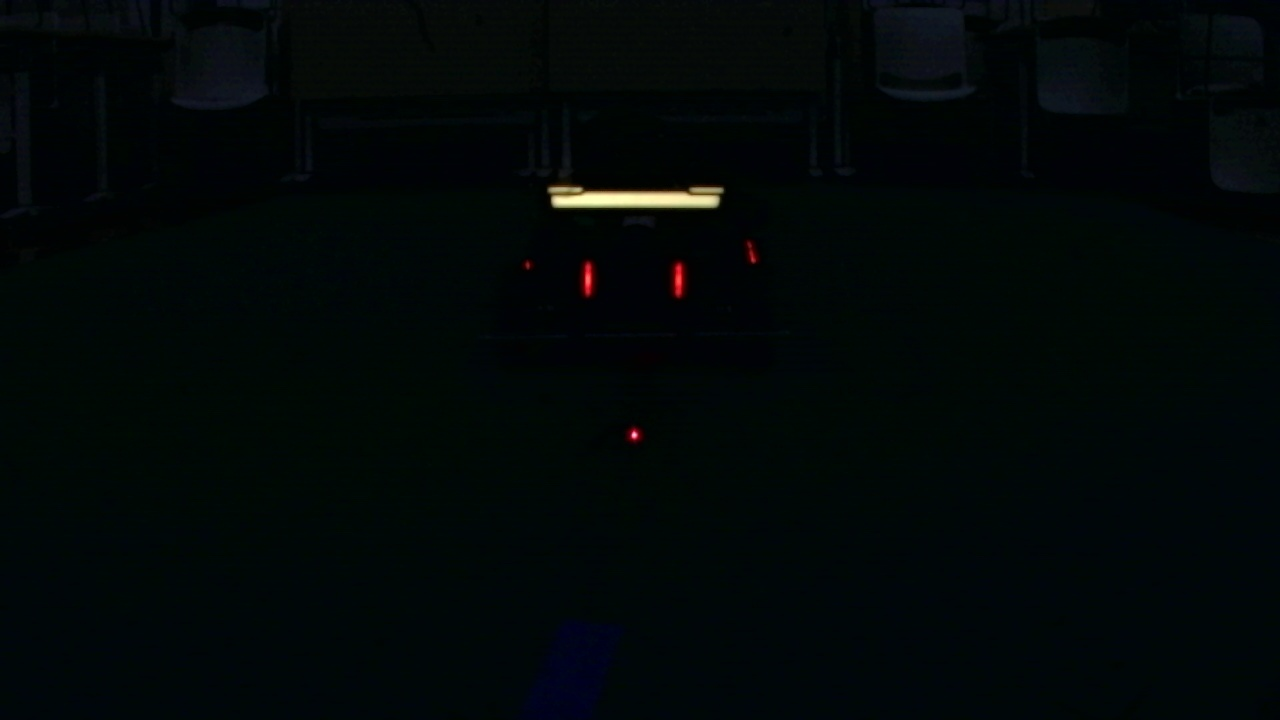lamp: (571, 259, 600, 303), (665, 257, 691, 305)
pair1: (580, 259, 686, 300)
